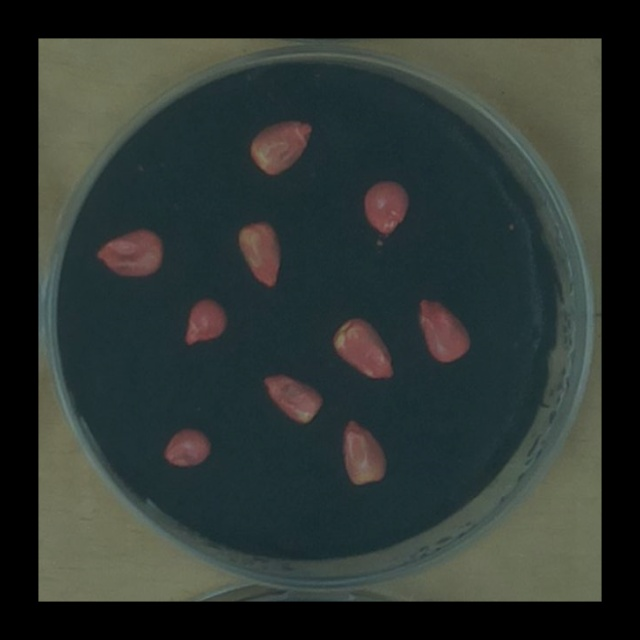Zea mays: (243, 110, 320, 182), (327, 310, 400, 385), (89, 220, 170, 283), (410, 292, 476, 369), (257, 366, 329, 429), (336, 412, 393, 490), (232, 213, 288, 291), (356, 173, 415, 241), (178, 290, 234, 351), (158, 418, 217, 472)
